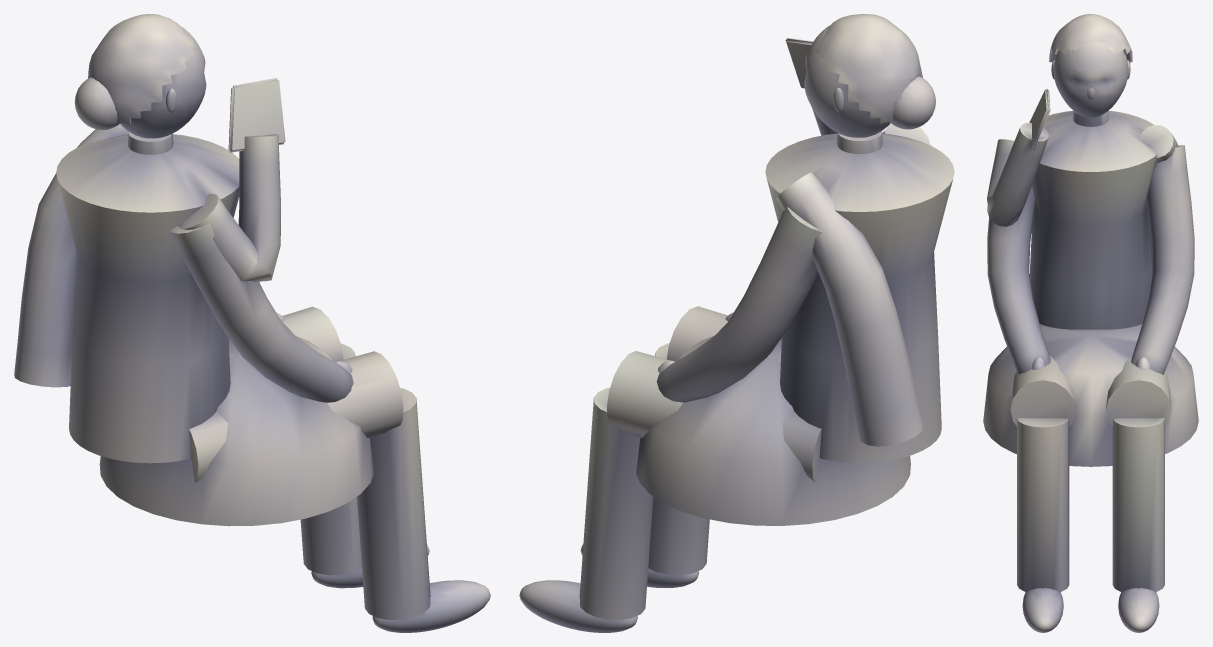
File: mrs-sahukar.glb
The picture shows the model from 3 angles, left to right: view 1: azimuth 30°, elevation 25°; view 2: azimuth 150°, elevation 25°; view 3: azimuth 270°, elevation 25°; orthographic projection. The views are drawn at different scales.
Visible parts, largest first — view 1: body; view 2: body; view 3: body.
Boxes of the visible parts, x1,y1,x2,y2 form: body: (14, 14, 490, 632); body: (519, 14, 954, 632); body: (983, 14, 1198, 632).
Bounding box in the file's own units: 0.8387 × 1.29 × 0.496.
